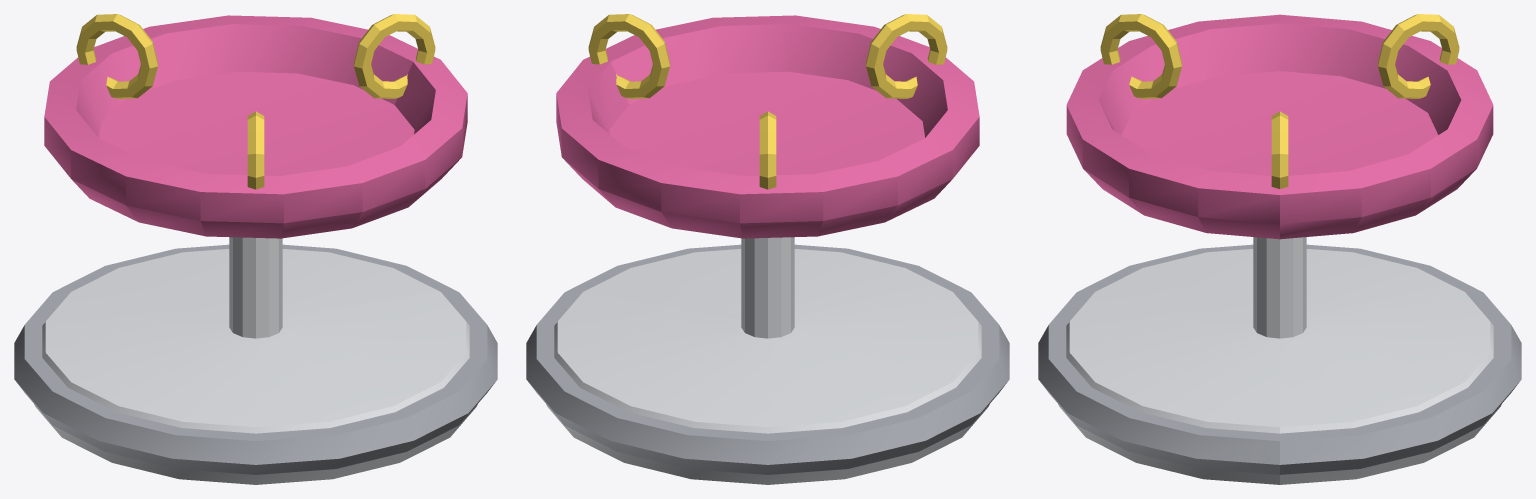
Rendered from trampoline-park-and-soft-play-spinner-seat-8c815d2b__34625.glb.
3 renders of one model, left to right at view 1: azimuth 30°, elevation 25°; view 2: azimuth 150°, elevation 25°; view 3: azimuth 270°, elevation 25°, orthographic.
Visible parts, largest first — view 1: spinner-seat, spinner, spinner/amber; view 2: spinner-seat, spinner, spinner/amber; view 3: spinner-seat, spinner, spinner/amber.
Part boxes in pixels (x1,y1,x2,y2): spinner-seat: (14, 237, 497, 484); spinner: (44, 15, 467, 238); spinner/amber: (76, 14, 435, 189); spinner-seat: (526, 237, 1009, 484); spinner: (556, 15, 979, 238); spinner/amber: (588, 14, 947, 189); spinner-seat: (1038, 237, 1521, 484); spinner: (1066, 14, 1493, 239); spinner/amber: (1100, 14, 1459, 188).
Size of the model in its own units: 0.92 by 0.708 by 0.9061.
